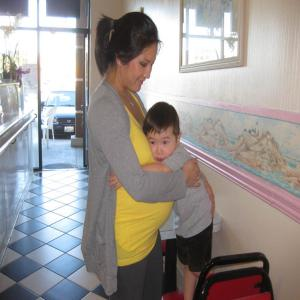Vehicle-registration-plate: (66, 127, 74, 132)
